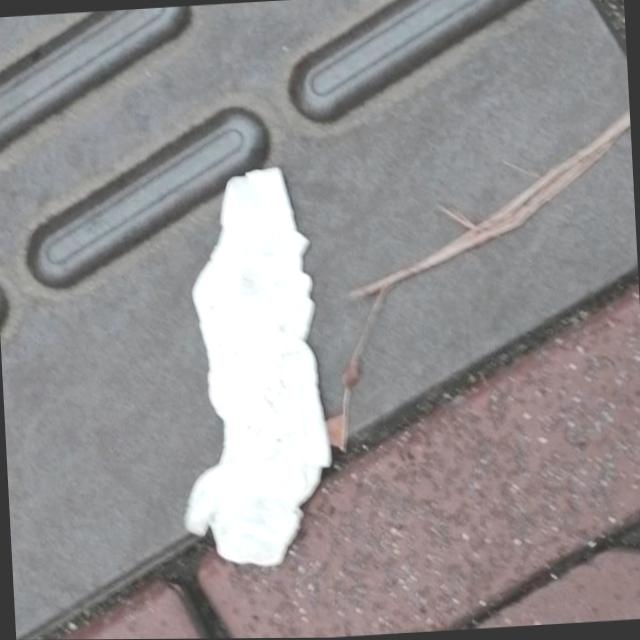Paper: (165, 162, 338, 571)
